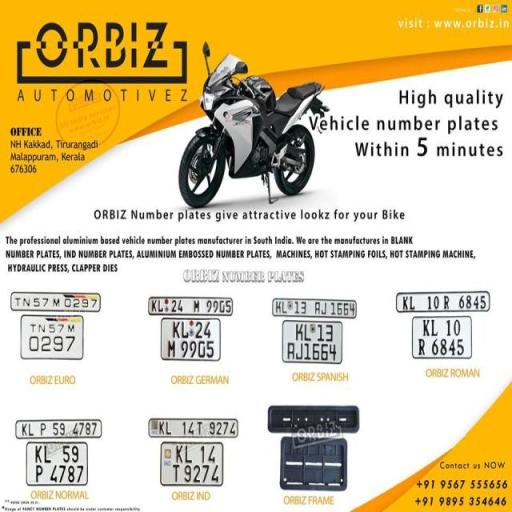number plate: (157, 315, 230, 363), (276, 320, 346, 364), (158, 442, 223, 488), (16, 316, 85, 359), (410, 316, 477, 359), (25, 442, 90, 486), (148, 414, 238, 440), (393, 288, 490, 312), (144, 292, 239, 316), (8, 292, 99, 315), (272, 298, 359, 320), (14, 418, 103, 438)
